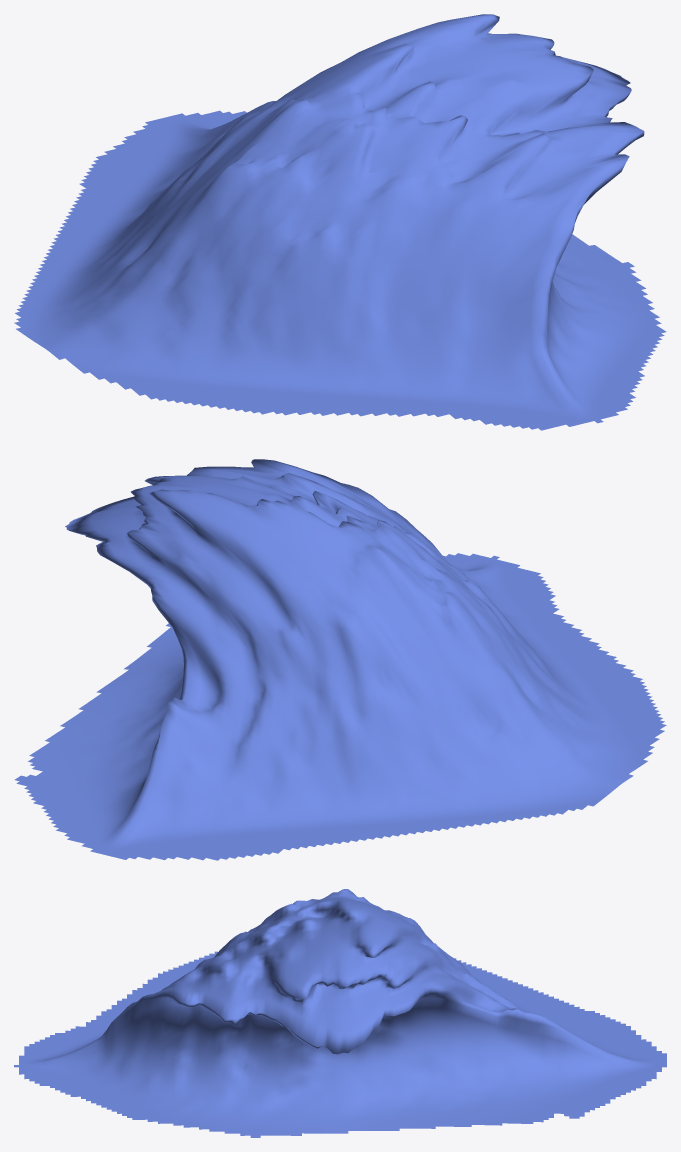
File: talas_2.fbx
3 renders of one model, top to bottom at view 1: azimuth 30°, elevation 25°; view 2: azimuth 150°, elevation 25°; view 3: azimuth 270°, elevation 25°, orthographic. The views are drawn at different scales.
Visible parts, largest first — view 1: Landscape.001; view 2: Landscape.001; view 3: Landscape.001.
Part boxes in pixels (box(x1,y1,x2,y2)): Landscape.001: box(14, 14, 666, 430); Landscape.001: box(14, 459, 666, 860); Landscape.001: box(14, 889, 666, 1137).
Size of the model in its own units: 177 by 62.39 by 223.
